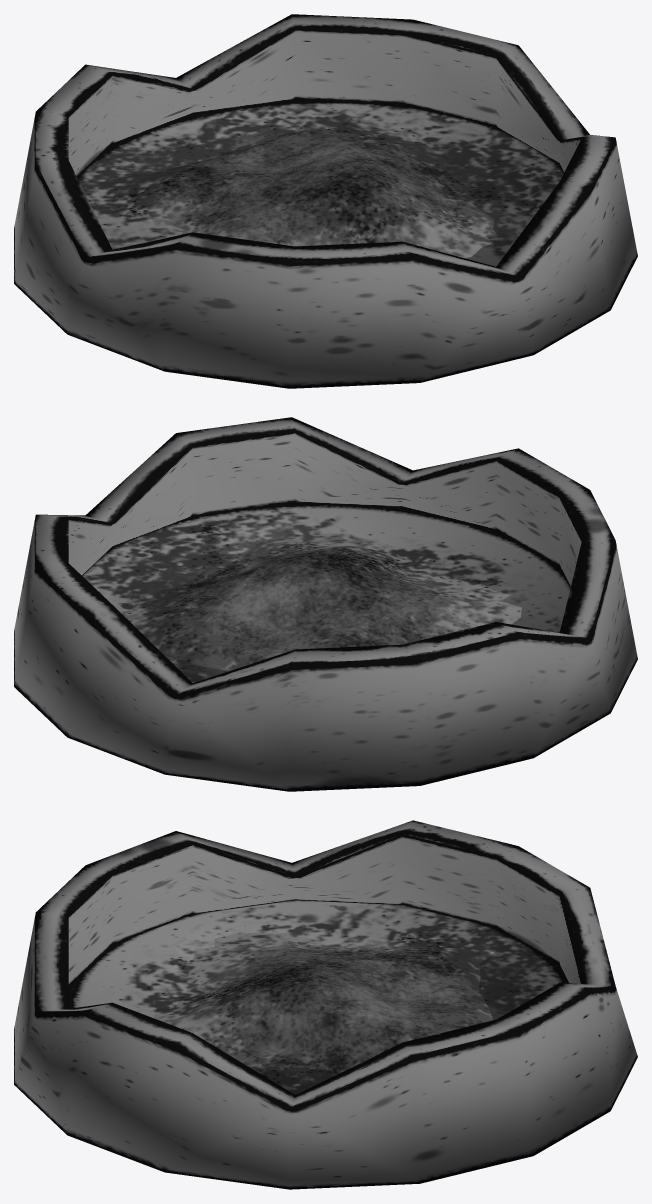
The model's file is ashtray.obj.
3 renders of one model, top to bottom at view 1: azimuth 30°, elevation 25°; view 2: azimuth 150°, elevation 25°; view 3: azimuth 270°, elevation 25°, orthographic.
Parts seen in each view (by area): view 1: ashtray; view 2: ashtray; view 3: ashtray.
Boxes of the visible parts, x1,y1,x2,y2 form: ashtray: (14,14,637,388); ashtray: (14,417,637,791); ashtray: (14,820,637,1189).
Size of the model in its own units: 0.4051 by 0.0847 by 0.4029.
